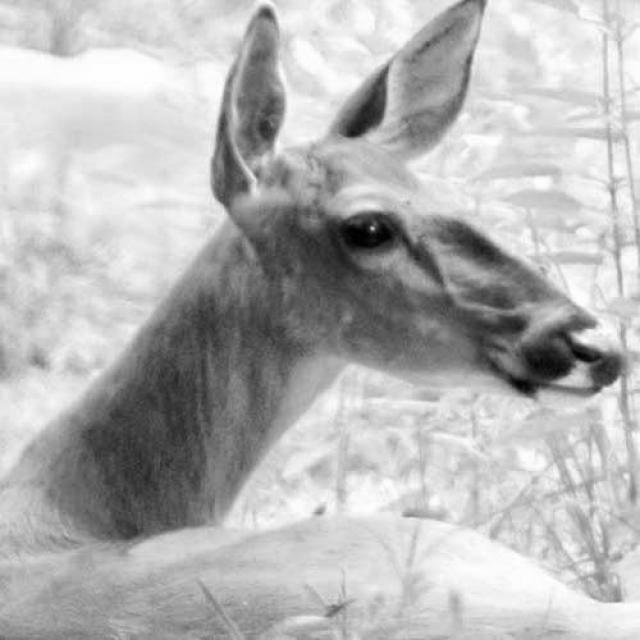Deer: (22, 14, 610, 638)
